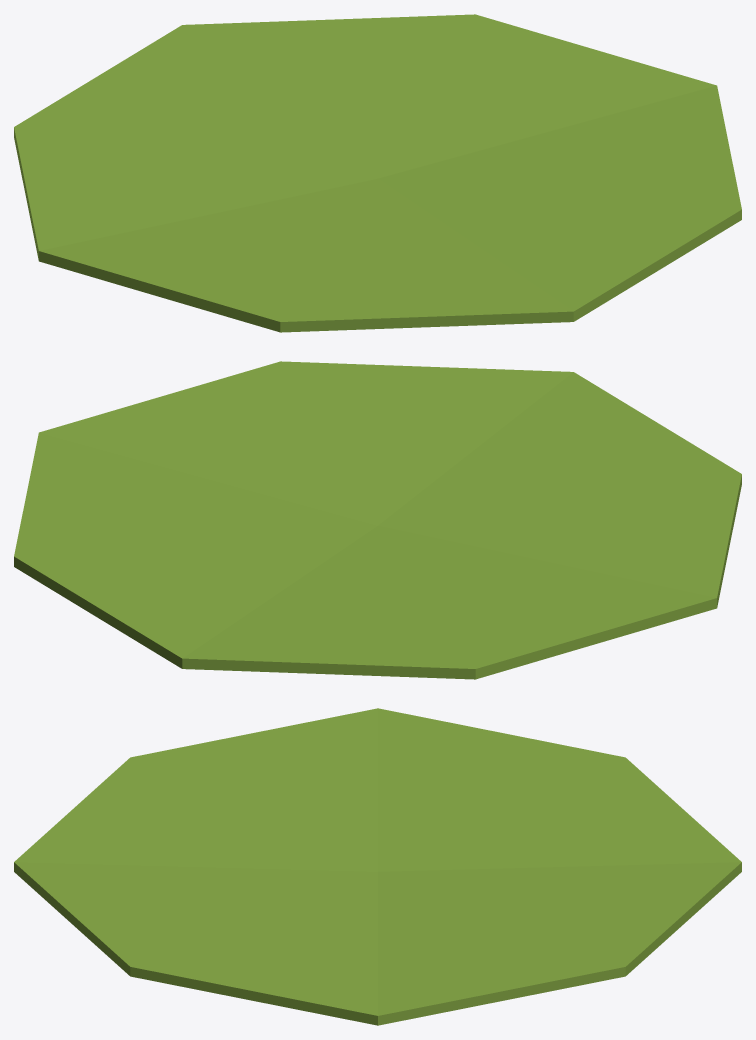
Rendered from orchid.fbx.
The picture shows the model from 3 angles, top to bottom: view 1: azimuth 30°, elevation 25°; view 2: azimuth 150°, elevation 25°; view 3: azimuth 270°, elevation 25°; orthographic projection. The views are drawn at different scales.
Parts seen in each view (by area): view 1: orchid_geo; view 2: orchid_geo; view 3: orchid_geo.
Boxes of the visible parts, x1,y1,x2,y2 form: orchid_geo: [14, 14, 741, 332]; orchid_geo: [14, 361, 741, 679]; orchid_geo: [14, 708, 741, 1025].
Bounding box in the file's own units: 30 × 0.881 × 30.
1 material, 1 textured.
